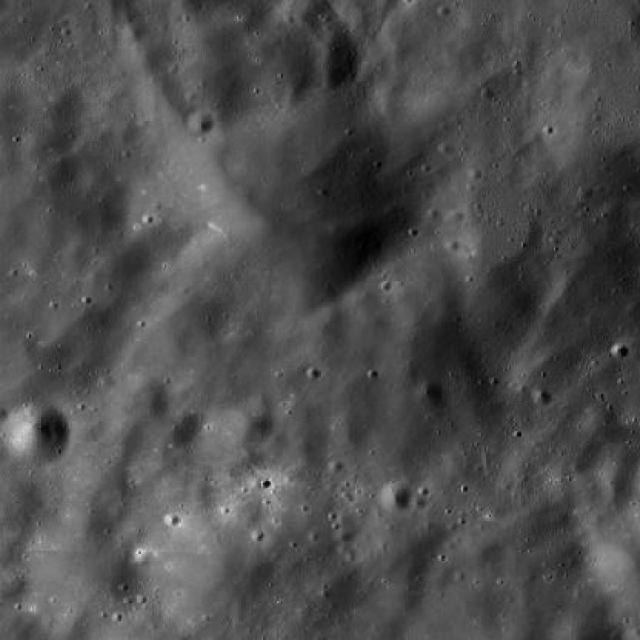crater: (156, 70, 432, 316), (138, 508, 274, 628), (20, 518, 138, 624), (356, 502, 447, 582), (0, 400, 71, 463), (200, 429, 266, 486), (111, 373, 167, 422), (59, 491, 113, 538), (0, 473, 38, 534), (453, 525, 502, 570), (81, 458, 130, 502), (314, 33, 364, 76), (380, 576, 425, 616), (594, 453, 638, 492), (229, 406, 274, 444), (272, 398, 314, 434), (158, 411, 198, 446), (18, 127, 58, 162), (582, 405, 620, 438), (39, 152, 76, 185), (276, 0, 327, 23), (0, 559, 26, 604), (108, 418, 144, 449), (381, 482, 414, 511), (332, 417, 363, 445), (58, 608, 88, 634), (120, 20, 148, 46), (416, 381, 442, 404), (188, 114, 212, 134), (121, 517, 144, 537), (380, 102, 402, 122), (248, 393, 269, 412), (115, 124, 136, 142), (530, 387, 550, 404), (612, 342, 630, 360), (336, 526, 353, 542)
